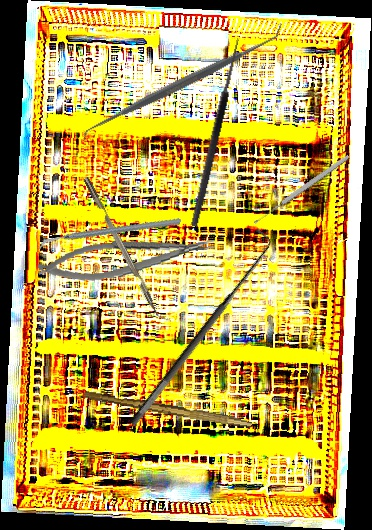Chopper: (37, 185, 182, 283), (83, 172, 171, 328)
Hook Surgical: (114, 227, 282, 429), (181, 34, 242, 228)
Needle Holder: (36, 230, 218, 287)
Scalpel Handle: (83, 389, 253, 429)
Spatula Surgical: (75, 21, 291, 144)
Surgical Spoon: (252, 153, 351, 226)
